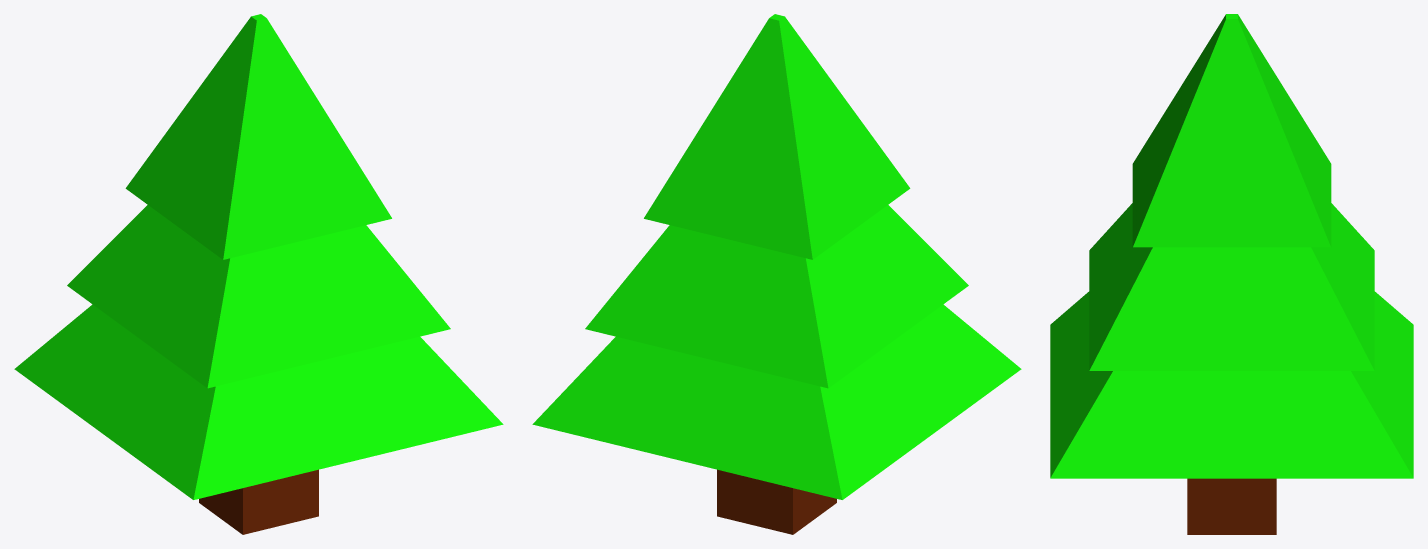
File: SmallTree.fbx
3 views of the same model, side by side, from view 1: azimuth 30°, elevation 25°; view 2: azimuth 150°, elevation 25°; view 3: azimuth 270°, elevation 25° (orthographic).
Parts seen in each view (by area): view 1: Cube; view 2: Cube; view 3: Cube.
Boxes of the visible parts, left/top/right/bottom form: Cube: left=14, top=14, right=503, bottom=534; Cube: left=532, top=14, right=1021, bottom=534; Cube: left=1050, top=14, right=1413, bottom=534.
Bounding box in the file's own units: 153 × 231 × 153.
